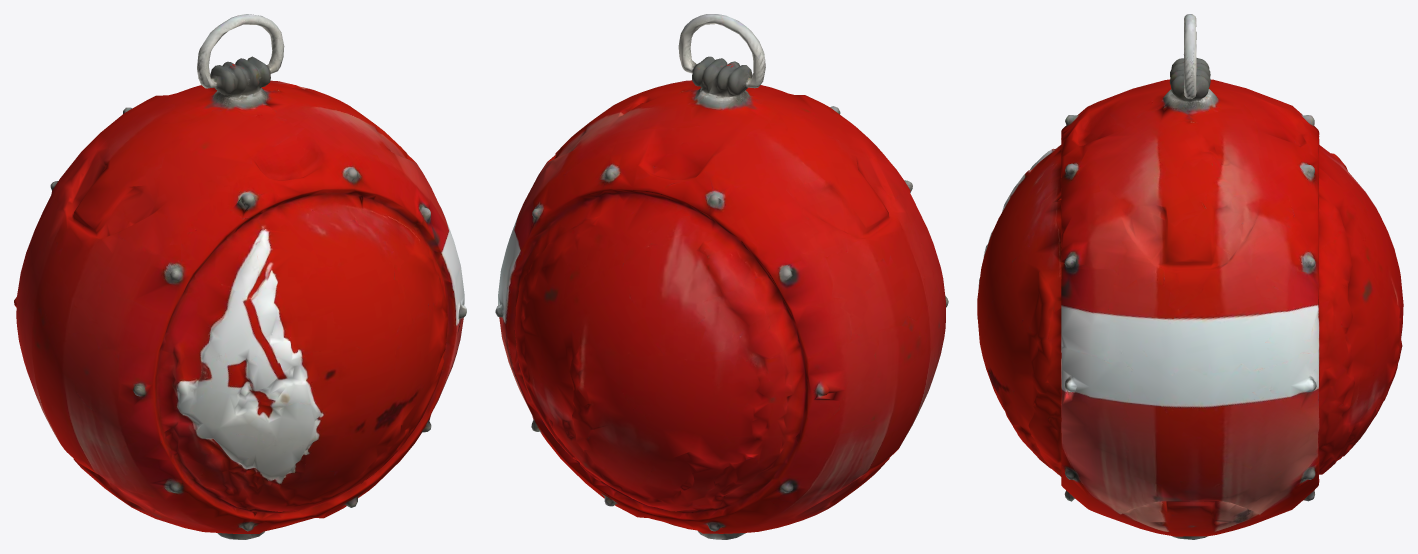
File: prop_buoy.glb
The picture shows the model from 3 angles, left to right: view 1: azimuth 30°, elevation 25°; view 2: azimuth 150°, elevation 25°; view 3: azimuth 270°, elevation 25°; orthographic projection.
Bounding box in the file's own units: 1.52 × 1.91 × 1.44.
1 material, 1 textured.
